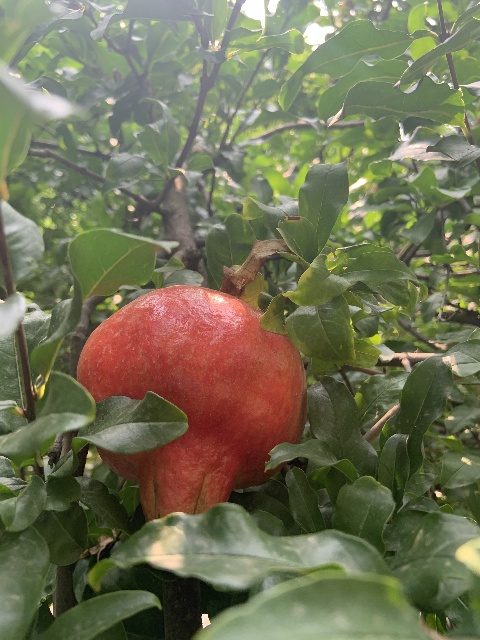ripe: (77, 284, 306, 520)
